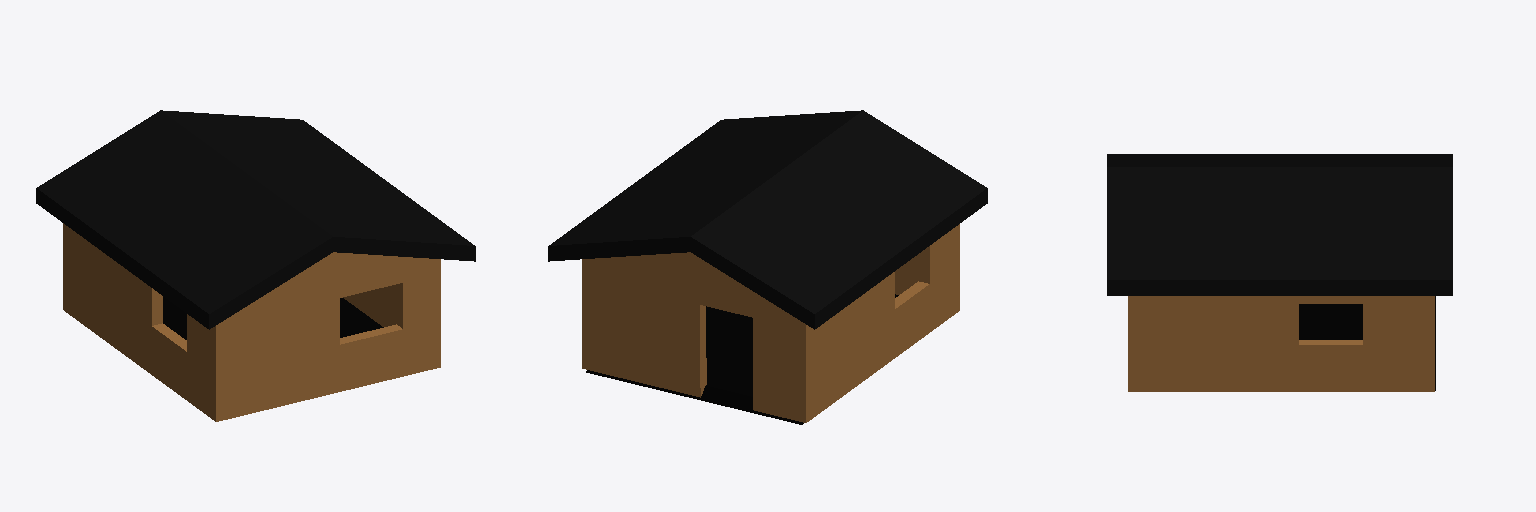
File: house2.obj
3 views of the same model, side by side, from view 1: azimuth 30°, elevation 25°; view 2: azimuth 150°, elevation 25°; view 3: azimuth 270°, elevation 25° (orthographic).
Visible parts, largest first — view 1: Roof, Walls, Floor; view 2: Roof, Walls, Floor; view 3: Roof, Walls, Floor.
Part boxes in pixels (bbox=[...]): Roof: bbox=[36, 110, 475, 329]; Walls: bbox=[63, 223, 440, 421]; Floor: bbox=[163, 297, 383, 339]; Roof: bbox=[548, 110, 987, 329]; Walls: bbox=[582, 224, 959, 422]; Floor: bbox=[586, 294, 898, 424]; Roof: bbox=[1107, 154, 1452, 295]; Walls: bbox=[1128, 296, 1434, 391]; Floor: bbox=[1299, 296, 1435, 390].
Bounding box in the file's own units: 6.62 × 4.02 × 7.44.